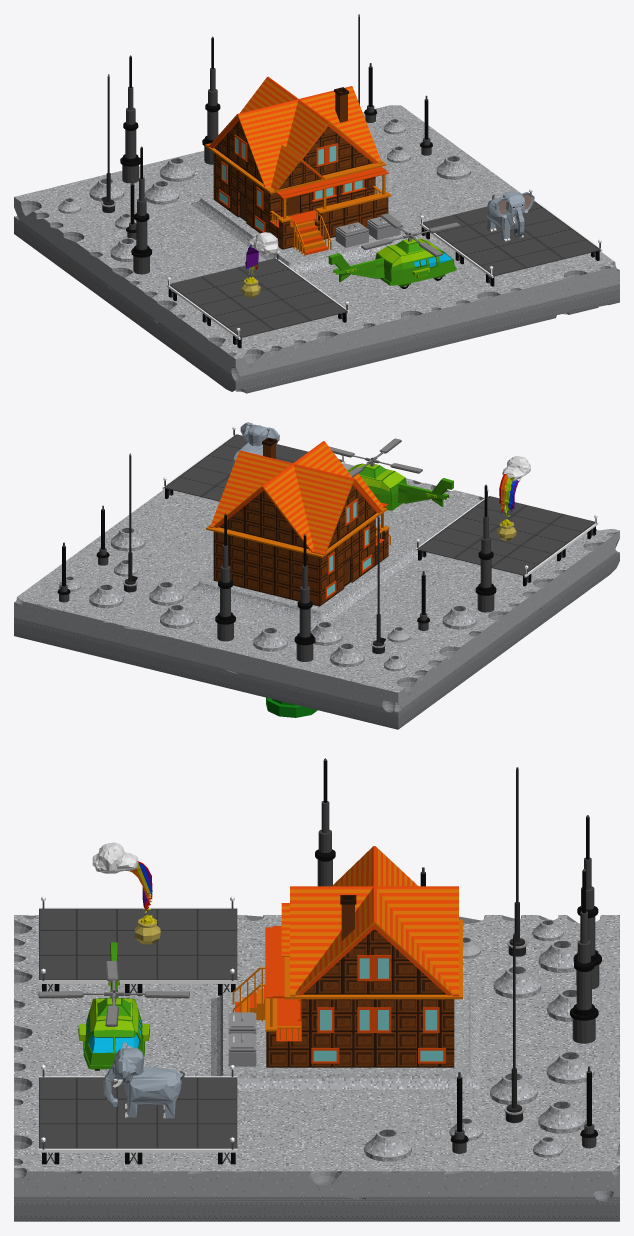
3 views of the same model, one above another, from view 1: azimuth 30°, elevation 25°; view 2: azimuth 150°, elevation 25°; view 3: azimuth 270°, elevation 25° (orthographic). The views are drawn at different scales.
Visible parts, largest first — view 1: Cube.027, Cube, Cube.025, Cube.026, VEHICLES_HELICOPTER, Cube.028, ANIMAL_ELEFANTE, Cylinder.021, Cylinder.020, OBJRANDOM_RAINBOW, Cylinder.017, Cube.029 (+6 smaller); view 2: Cube.027, Cube, Cube.025, Cube.028, Cube.026, VEHICLES_HELICOPTER, OBJRANDOM_RAINBOW, Cylinder.021, Cylinder.020, Cylinder.017, ANIMAL_ELEFANTE, Cylinder.025 (+10 smaller); view 3: Cube.027, Cube, Cube.025, Cube.026, Cube.028, VEHICLES_HELICOPTER, ANIMAL_ELEFANTE, Cylinder.017, OBJRANDOM_RAINBOW, Cylinder.021, Cylinder.020, Cylinder.033 (+12 smaller).
Boxes of the visible parts, left/top/right/bottom form: Cube.027: left=14, top=105, right=619, bottom=393; Cube: left=205, top=76, right=391, bottom=256; Cube.025: left=166, top=251, right=349, bottom=348; Cube.026: left=419, top=189, right=602, bottom=286; VEHICLES_HELICOPTER: left=328, top=213, right=460, bottom=288; Cube.028: left=191, top=194, right=418, bottom=273; ANIMAL_ELEFANTE: left=486, top=191, right=534, bottom=241; Cylinder.021: left=131, top=146, right=151, bottom=274; Cylinder.020: left=120, top=55, right=140, bottom=183; OBJRANDOM_RAINBOW: left=241, top=232, right=279, bottom=298; Cylinder.017: left=202, top=36, right=220, bottom=164; Cube.029: left=335, top=222, right=368, bottom=247; Cube.027: left=14, top=463, right=619, bottom=729; Cube: left=206, top=437, right=390, bottom=606; Cube.025: left=415, top=488, right=598, bottom=586; Cube.028: left=189, top=541, right=417, bottom=623; Cube.026: left=162, top=426, right=345, bottom=501; VEHICLES_HELICOPTER: left=329, top=438, right=453, bottom=510; OBJRANDOM_RAINBOW: left=497, top=456, right=530, bottom=541; Cylinder.021: left=475, top=484, right=496, bottom=612; Cylinder.020: left=294, top=534, right=315, bottom=661; Cylinder.017: left=215, top=513, right=235, bottom=641; ANIMAL_ELEFANTE: left=232, top=422, right=279, bottom=468; Cylinder.025: left=442, top=605, right=476, bottom=629; Cube.027: left=14, top=915, right=619, bottom=1221; Cube: left=232, top=846, right=462, bottom=1067; Cube.025: left=39, top=896, right=237, bottom=995; Cube.026: left=39, top=1065, right=237, bottom=1164; Cube.028: left=211, top=992, right=480, bottom=1089; VEHICLES_HELICOPTER: left=38, top=942, right=189, bottom=1070; ANIMAL_ELEFANTE: left=103, top=1042, right=184, bottom=1118; Cylinder.017: left=570, top=868, right=598, bottom=1043; OBJRANDOM_RAINBOW: left=92, top=842, right=160, bottom=944; Cylinder.021: left=315, top=758, right=335, bottom=886; Cylinder.020: left=573, top=815, right=601, bottom=989; Cylinder.033: left=364, top=1128, right=411, bottom=1161.
Size of the model in its own units: 4000 by 2383 by 4000.
38 materials, 5 textured.
